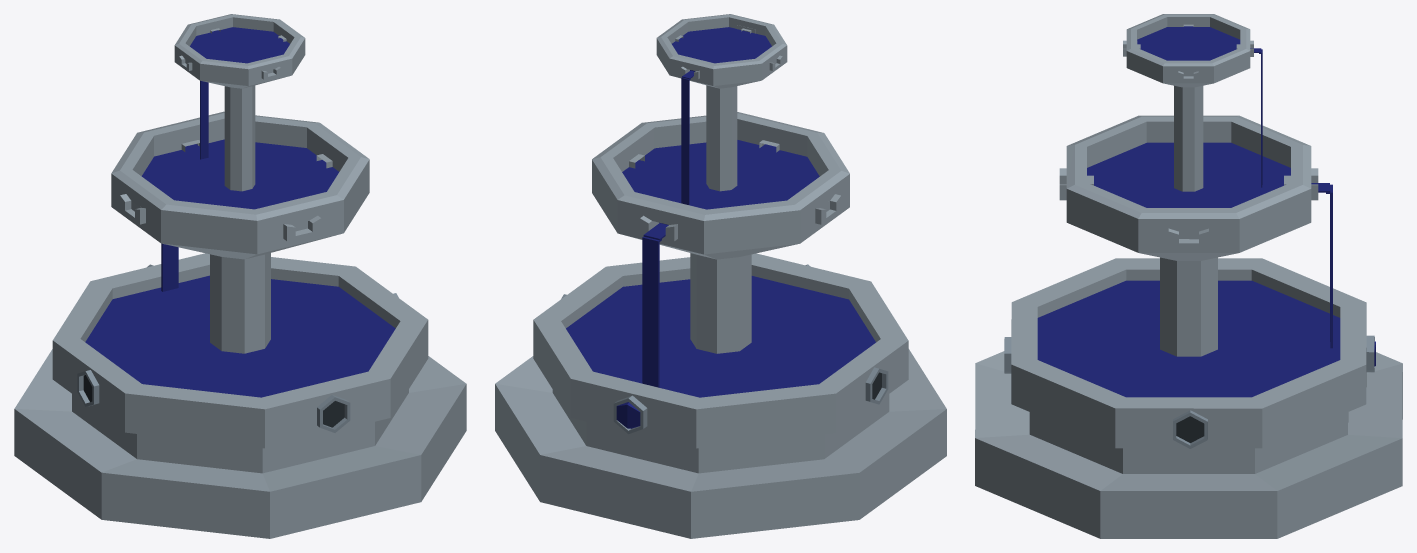
Rendered from Fontaine1.obj.
3 views of the same model, side by side, from view 1: azimuth 30°, elevation 25°; view 2: azimuth 150°, elevation 25°; view 3: azimuth 270°, elevation 25° (orthographic).
Parts seen in each view (by area): view 1: Cylinder.036, Cylinder.037, Cylinder.038, Cylinder.039, Plane.071, Cylinder.033, Cylinder.034; view 2: Cylinder.036, Cylinder.037, Cylinder.038, Plane.071, Cylinder.039, Cylinder.034, Cylinder.035; view 3: Cylinder.036, Cylinder.037, Cylinder.038, Cylinder.039, Cylinder.032, Plane.071.
Part boxes in pixels (box(x1,y1,x2,y2)): Cylinder.036: box(14, 14, 466, 538); Cylinder.037: box(85, 275, 395, 397); Cylinder.038: box(141, 139, 338, 209); Cylinder.039: box(190, 27, 289, 63); Plane.071: box(161, 80, 208, 291); Cylinder.033: box(317, 395, 350, 432); Cylinder.034: box(77, 370, 99, 406); Cylinder.036: box(495, 14, 946, 538); Cylinder.037: box(566, 276, 875, 397); Cylinder.038: box(622, 140, 819, 224); Plane.071: box(642, 70, 694, 387); Cylinder.039: box(672, 27, 771, 71); Cylinder.034: box(865, 367, 888, 404); Cylinder.035: box(613, 395, 647, 434); Cylinder.036: box(975, 14, 1402, 538); Cylinder.037: box(1037, 280, 1340, 397); Cylinder.038: box(1087, 142, 1290, 207); Cylinder.039: box(1137, 26, 1240, 60); Cylinder.032: box(1173, 410, 1207, 448); Plane.071: box(1250, 48, 1332, 348).
Bounding box in the file's own units: 4.73 × 5 × 4.73.
1 material, 1 textured.
